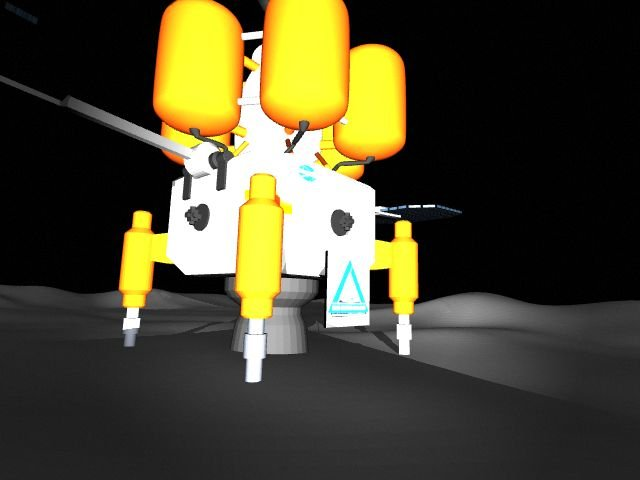basemarker: (329, 258, 368, 317)
